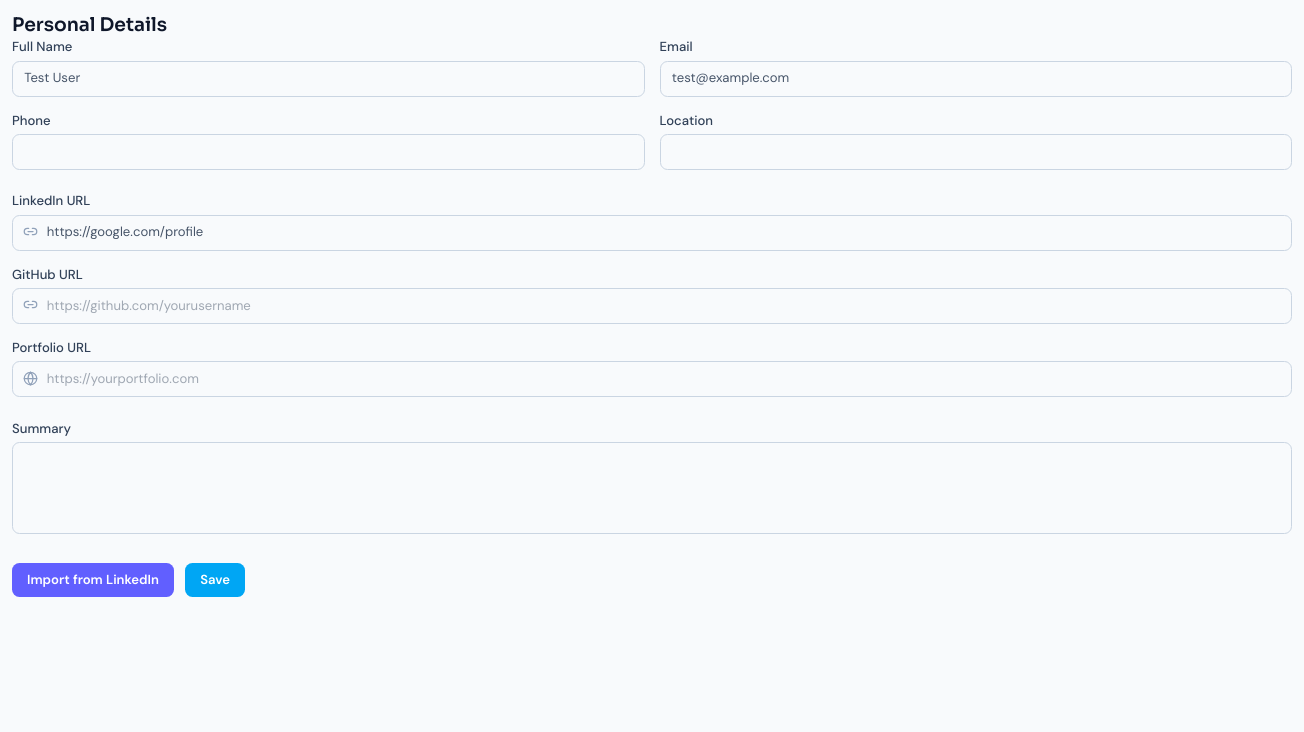
Test: PersonalForm — LinkedIn Import › invalid URL › shows error for non-LinkedIn URL
This screenshot has width=1304, height=732.
Click the button "Import from LinkedIn" at (93,580), box top-left (12, 563), bottom-right (174, 597)
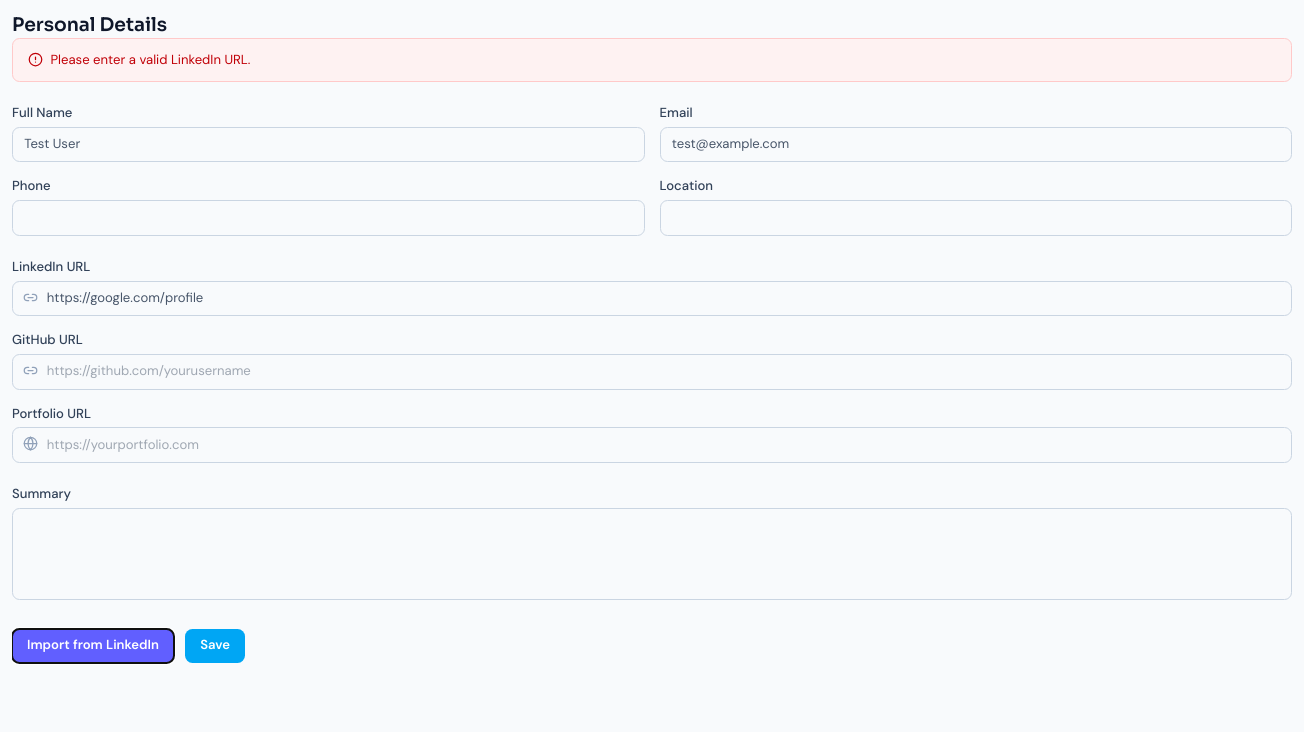
Result: the text "Please enter a valid LinkedIn URL." is shown at top-left (12, 38), bottom-right (1292, 82)
